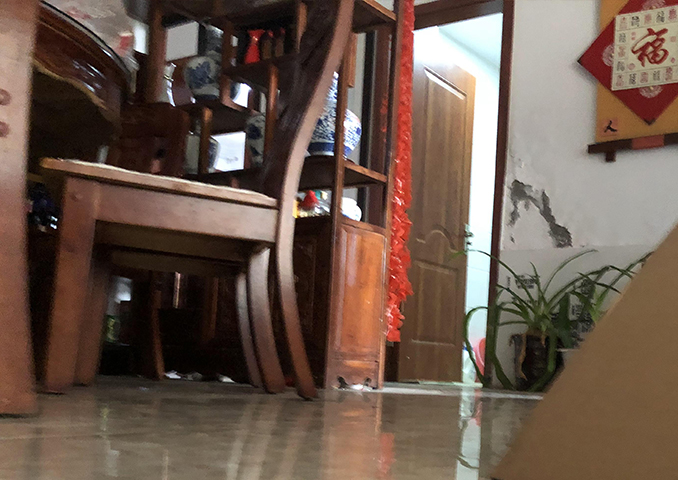cabinet: (294, 216, 391, 392)
stool: (38, 1, 358, 402)
